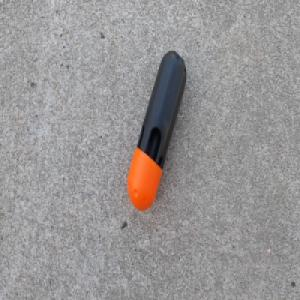PlasticPart: (125, 51, 184, 212)
